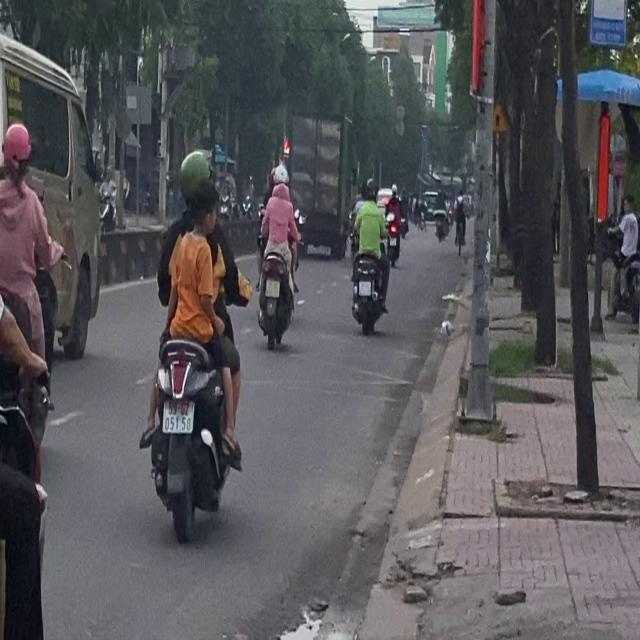helmet: (0, 122, 33, 182), (177, 149, 213, 203)
licenseplate: (140, 142, 246, 538)
motorcyclist: (188, 179, 218, 254)
nohelmet: (163, 399, 194, 432)
